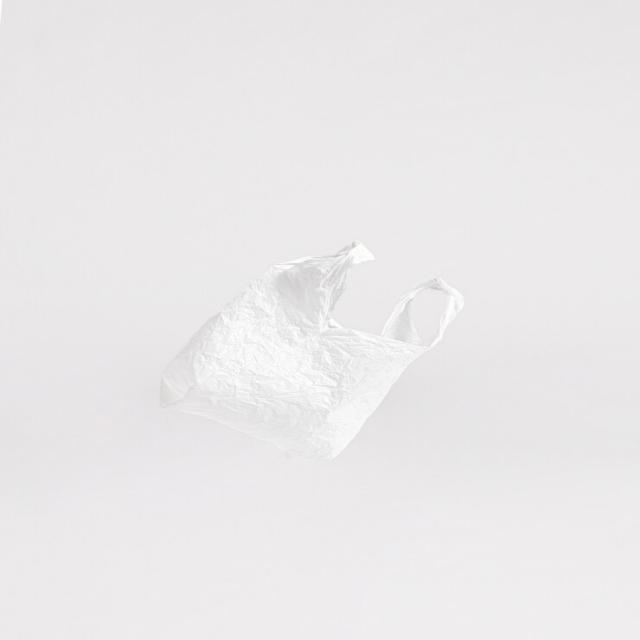plastic_bag: (133, 215, 514, 491)
